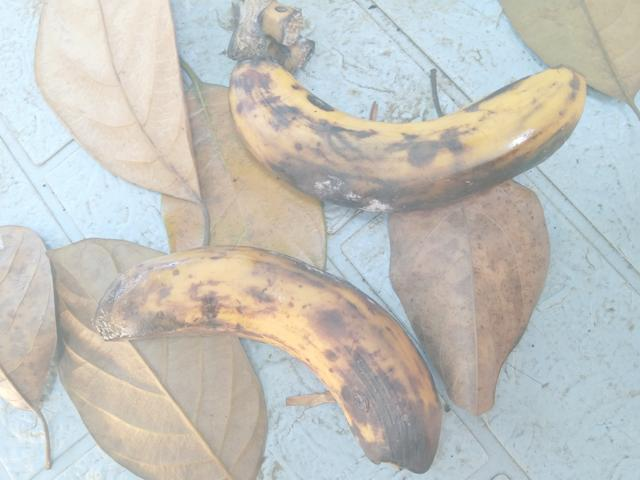overripe: (75, 238, 495, 479), (191, 23, 600, 227)
